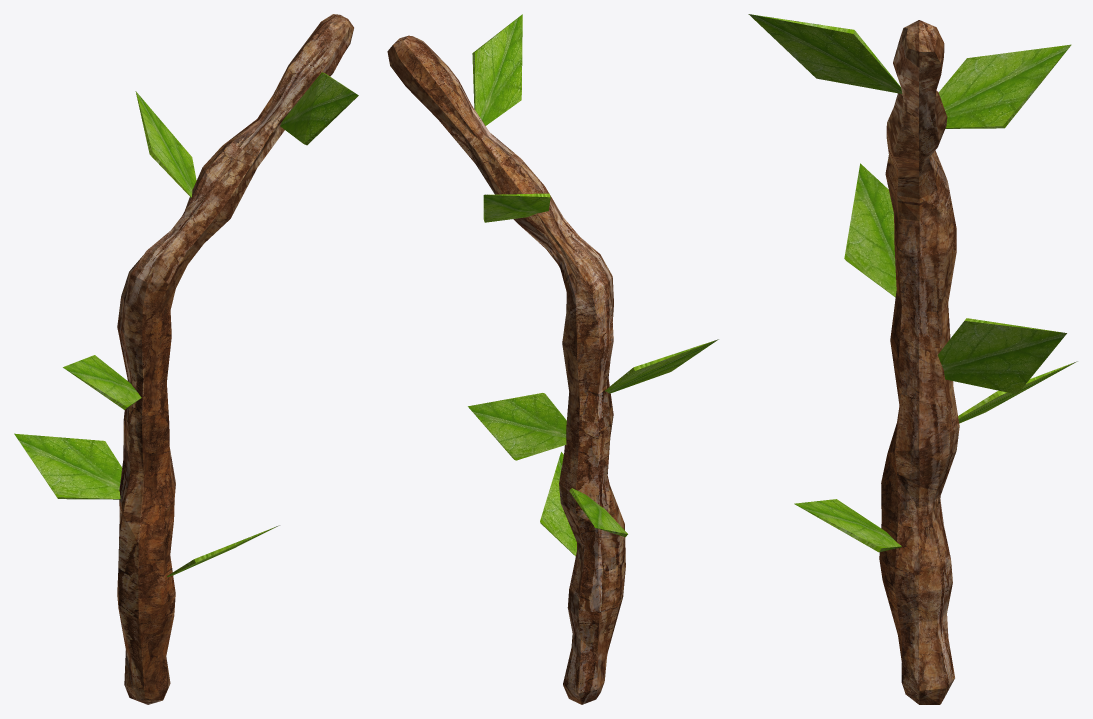
Rendered from obj_tree.obj.
3 views of the same model, side by side, from view 1: azimuth 30°, elevation 25°; view 2: azimuth 150°, elevation 25°; view 3: azimuth 270°, elevation 25° (orthographic). The views are drawn at different scales.
Parts seen in each view (by area): view 1: Plane; view 2: Plane; view 3: Plane.
Boxes of the visible parts, box(x1,y1,x2,y2) form: Plane: box(14, 14, 358, 704); Plane: box(387, 14, 718, 704); Plane: box(748, 14, 1077, 704).
Bounding box in the file's own units: 0.3027 × 0.5892 × 0.2237.
1 material, 1 textured.
